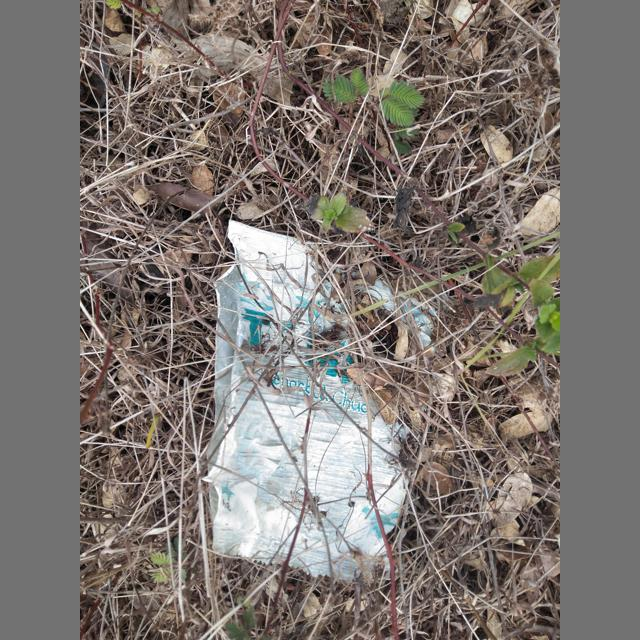litter: (206, 220, 440, 581)
